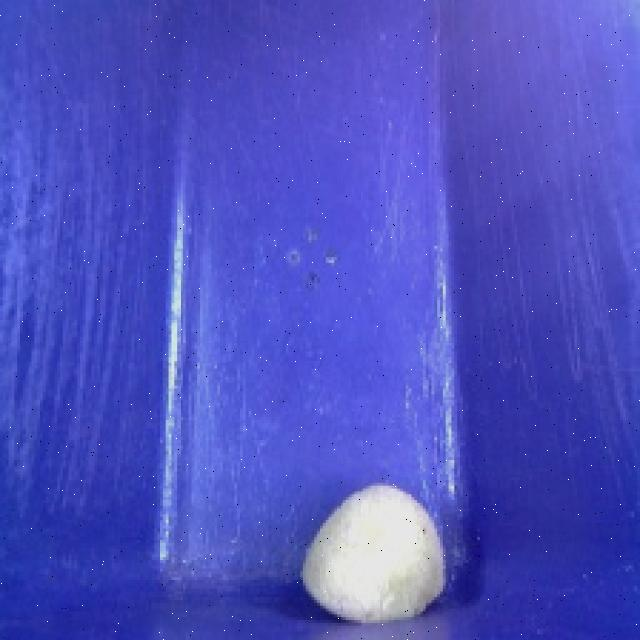potato: (280, 477, 482, 628)
